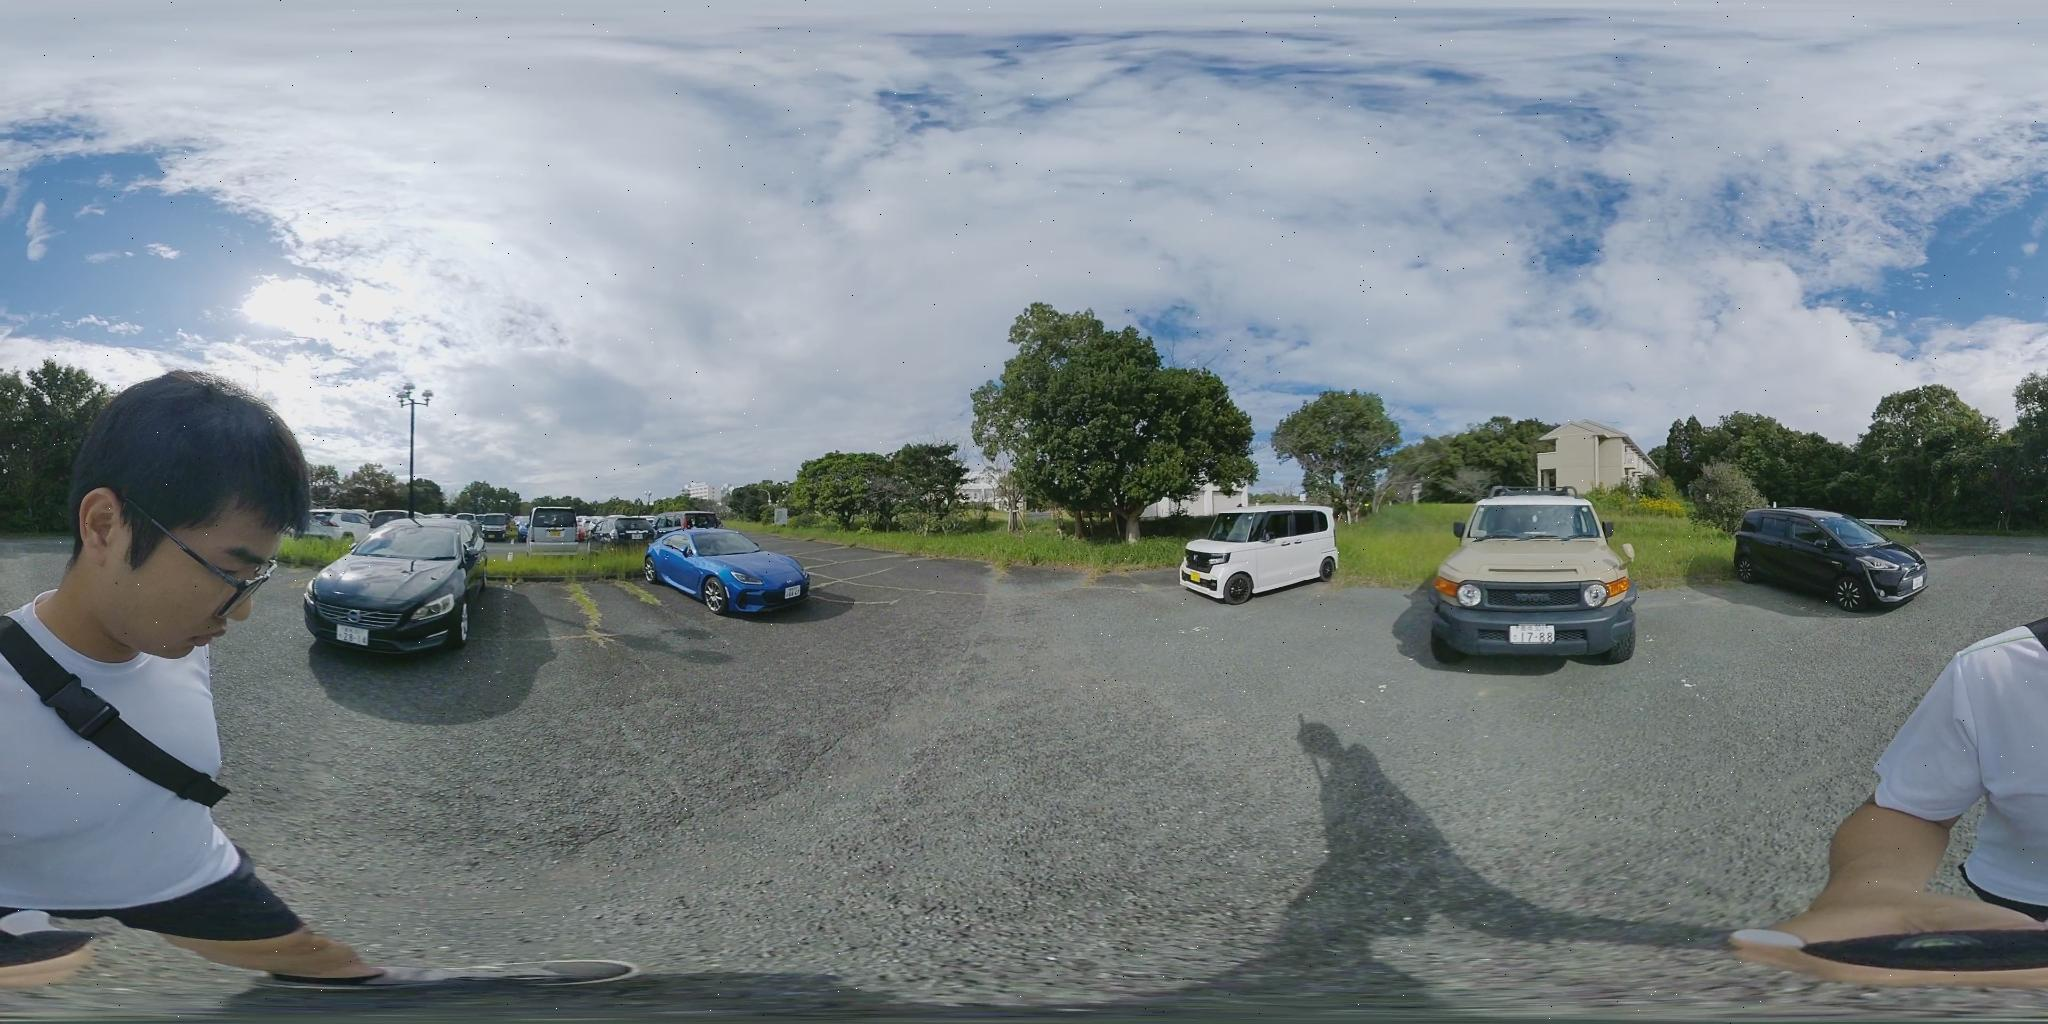car: (1434, 494, 1630, 662), (306, 519, 491, 656), (1732, 507, 1928, 611), (647, 529, 811, 615), (1185, 505, 1331, 589)
